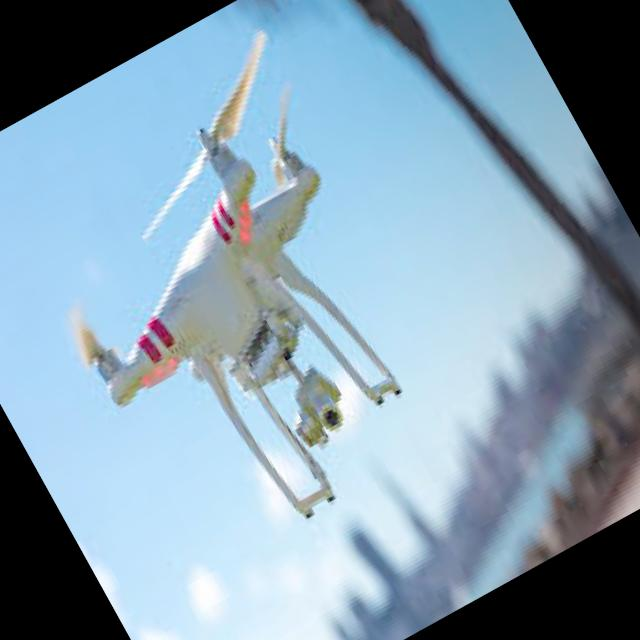drone: (0, 48, 490, 586)
